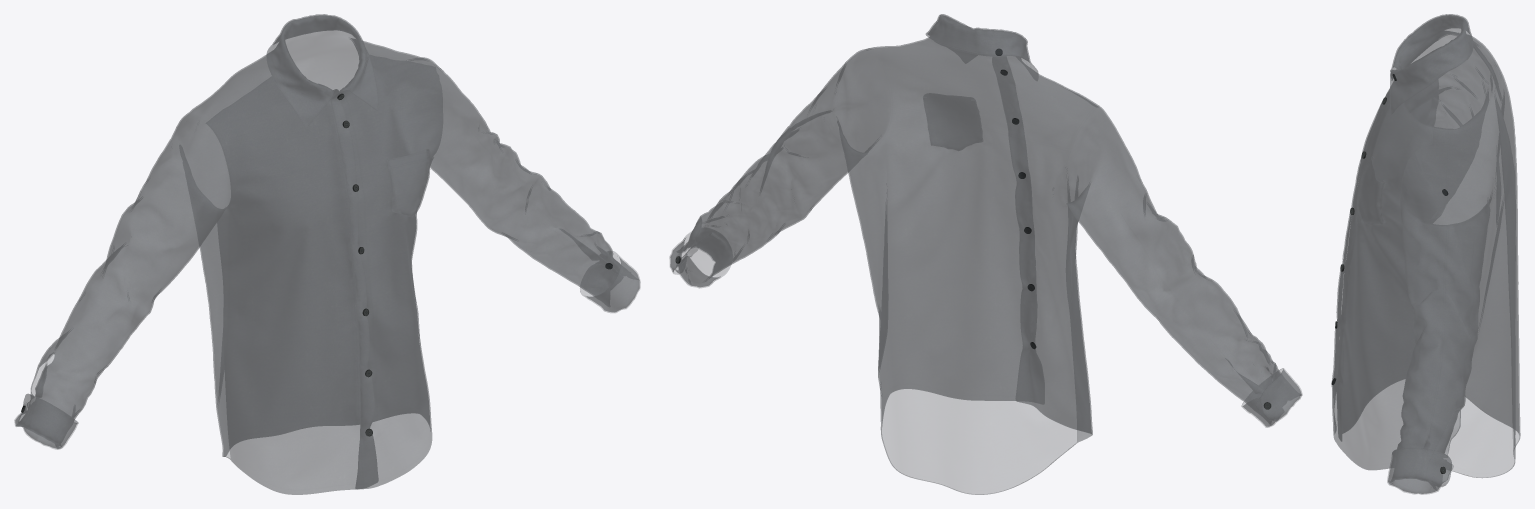
Rendered from Shirt_Long_Sleeves.glb.
The picture shows the model from 3 angles, left to right: view 1: azimuth 30°, elevation 25°; view 2: azimuth 150°, elevation 25°; view 3: azimuth 270°, elevation 25°; orthographic projection. The views are drawn at different scales.
Parts seen in each view (by area): view 1: Shirt; view 2: Shirt; view 3: Shirt.
Part boxes in pixels (x1=…): Shirt: x1=14, y1=14, x2=640, y2=494; Shirt: x1=669, y1=14, x2=1302, y2=494; Shirt: x1=1331, y1=14, x2=1520, y2=494.
Bounding box in the file's own units: 1.1 × 0.7489 × 0.3007.
7 materials, 5 textured.
